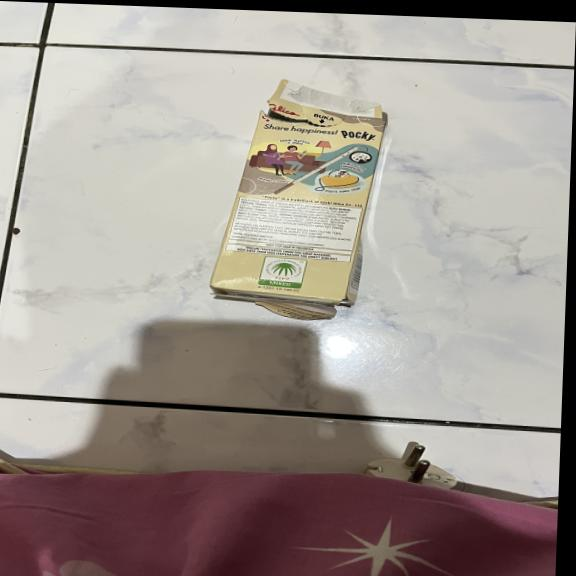Kertas: (205, 101, 387, 300)
